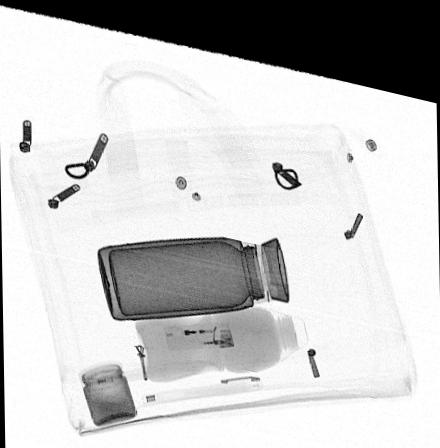Lighter: (162, 310, 233, 341)
